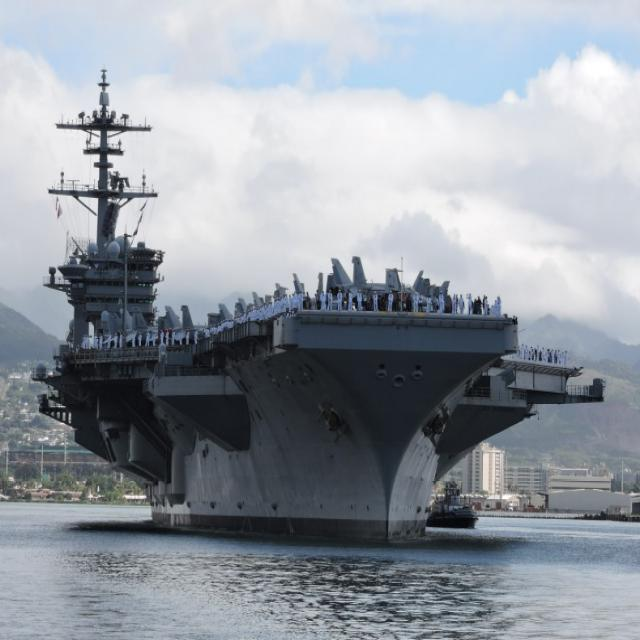Portanaves: (32, 61, 615, 571)
